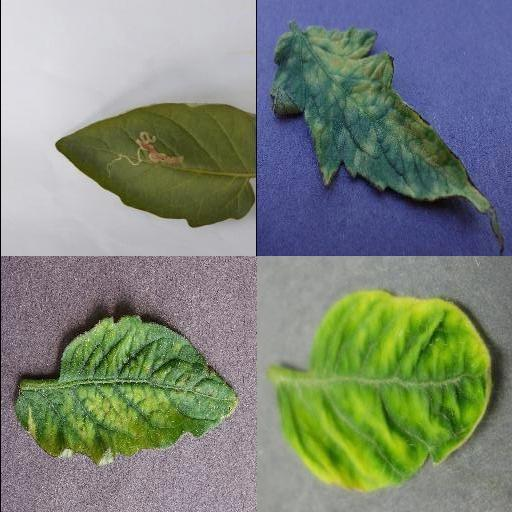Leaf Miner: (55, 102, 256, 230)
Leaf Mold: (269, 29, 493, 215)
Mosaic Virus: (14, 312, 238, 466)
Yellow Leaf Curl Virus: (276, 289, 492, 493)
